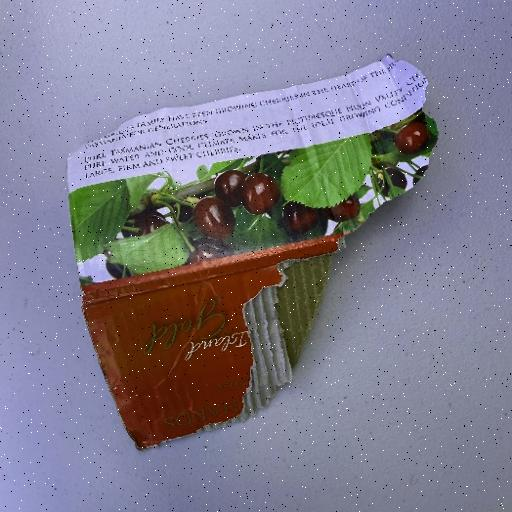Cardboard: (64, 52, 440, 450)
